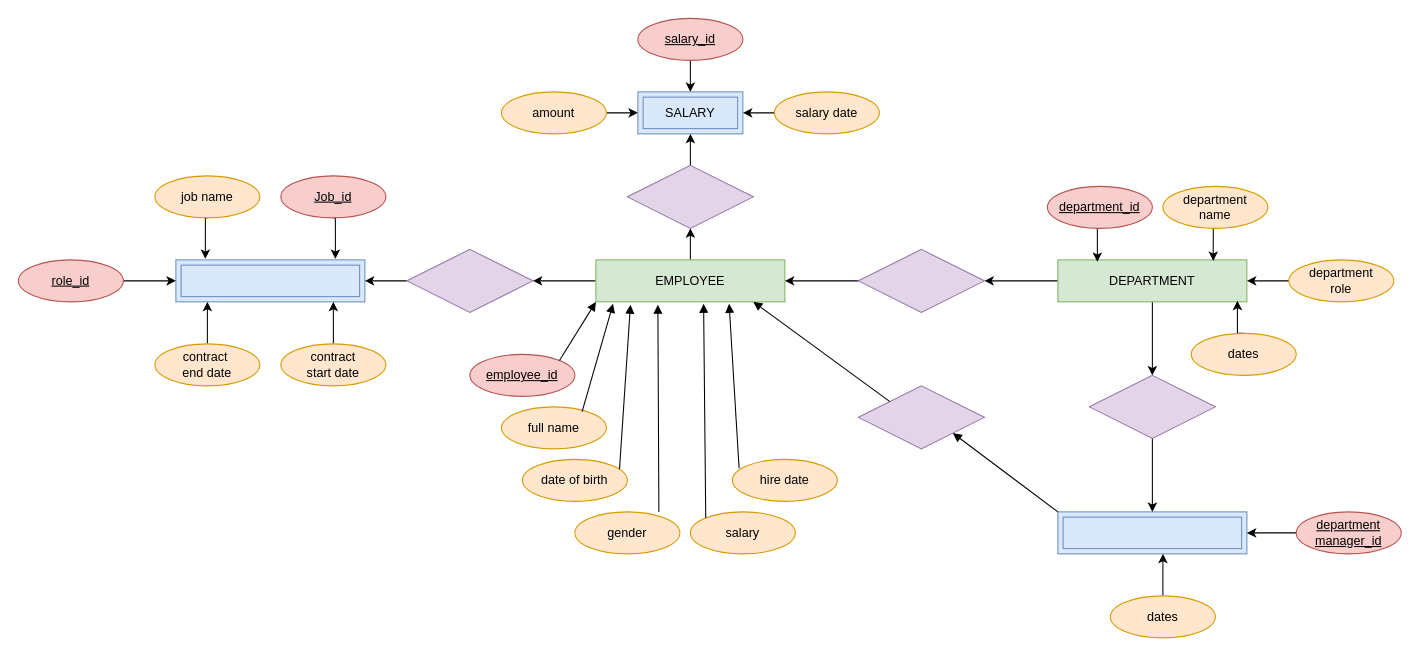
Some shapes in this 1420 by 656 pixel diagram are drawn without their labels. Each missing label, with the centre of its shape:
belong: the point at 920,280
has: the point at 1151,406
JOB: the point at 270,280
manage: the point at 920,417
MANAGER: the point at 1152,532
receive: the point at 689,196
work: the point at 469,280
